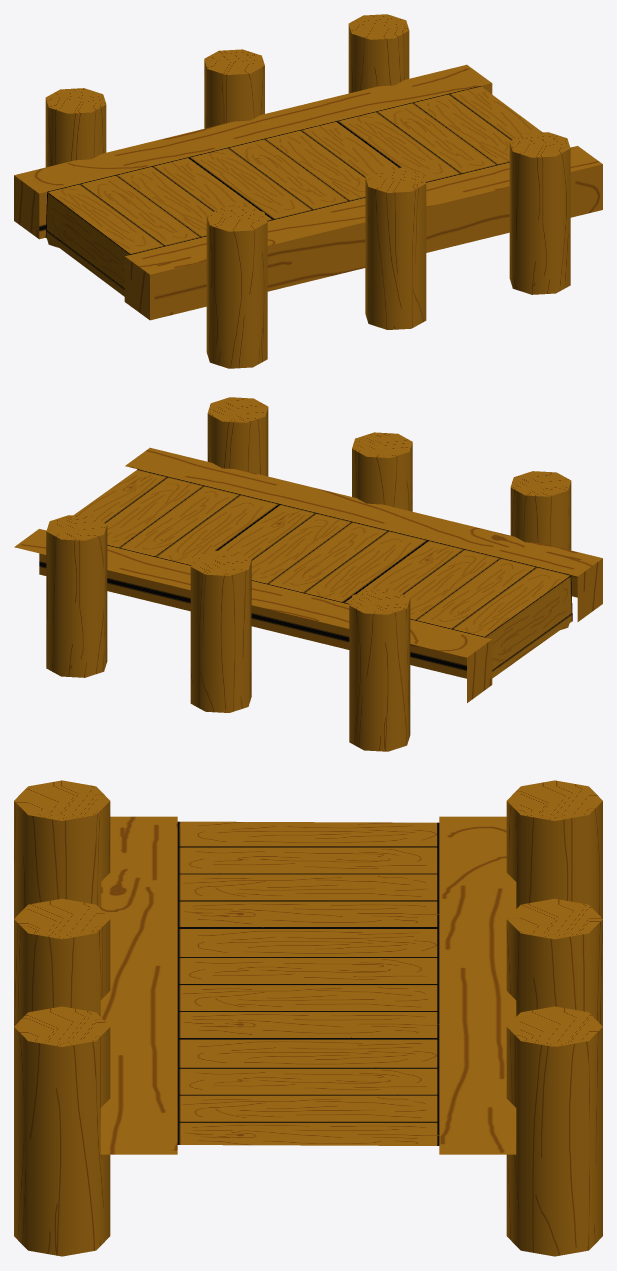
The model's file is Embarcadero.FBX.
3 renders of one model, top to bottom at view 1: azimuth 30°, elevation 25°; view 2: azimuth 150°, elevation 25°; view 3: azimuth 270°, elevation 25°, orthographic. The views are drawn at different scales.
Parts seen in each view (by area): view 1: SueloEmbarcadero001, MaderoEmbarcadero001, MaderoEmbarcadero002, ToconEmbarcadero002, ToconEmbarcadero003, ToconEmbarcadero001, ToconEmbarcadero006, ToconEmbarcadero004, ToconEmbarcadero005; view 2: SueloEmbarcadero001, MaderoEmbarcadero002, MaderoEmbarcadero001, ToconEmbarcadero004, ToconEmbarcadero005, ToconEmbarcadero006, ToconEmbarcadero001, ToconEmbarcadero003, ToconEmbarcadero002; view 3: SueloEmbarcadero001, MaderoEmbarcadero001, MaderoEmbarcadero002, ToconEmbarcadero004, ToconEmbarcadero003, ToconEmbarcadero006, ToconEmbarcadero001, ToconEmbarcadero005, ToconEmbarcadero002.
Boxes of the visible parts, x1,y1,x2,y2 form: SueloEmbarcadero001: (45, 86, 541, 296); MaderoEmbarcadero001: (124, 146, 602, 320); MaderoEmbarcadero002: (14, 64, 492, 239); ToconEmbarcadero002: (365, 167, 426, 329); ToconEmbarcadero003: (509, 132, 570, 294); ToconEmbarcadero001: (206, 206, 267, 368); ToconEmbarcadero006: (45, 88, 106, 247); ToconEmbarcadero004: (348, 14, 409, 93); ToconEmbarcadero005: (204, 49, 264, 128); SueloEmbarcadero001: (74, 469, 572, 678); MaderoEmbarcadero002: (14, 529, 492, 702); MaderoEmbarcadero001: (125, 447, 602, 621); ToconEmbarcadero004: (46, 515, 107, 677); ToconEmbarcadero005: (190, 550, 251, 712); ToconEmbarcadero006: (349, 589, 410, 751); ToconEmbarcadero001: (510, 471, 571, 629); ToconEmbarcadero003: (207, 397, 268, 476); ToconEmbarcadero002: (352, 432, 412, 511); SueloEmbarcadero001: (177, 821, 439, 1145); MaderoEmbarcadero001: (100, 816, 177, 1154); MaderoEmbarcadero002: (439, 816, 516, 1154); ToconEmbarcadero004: (506, 1006, 602, 1256); ToconEmbarcadero003: (14, 1006, 110, 1256); ToconEmbarcadero006: (506, 780, 602, 918); ToconEmbarcadero001: (14, 780, 110, 918); ToconEmbarcadero005: (506, 898, 602, 1026); ToconEmbarcadero002: (14, 898, 110, 1026).
Bounding box in the file's own units: 656 × 190 × 483.
